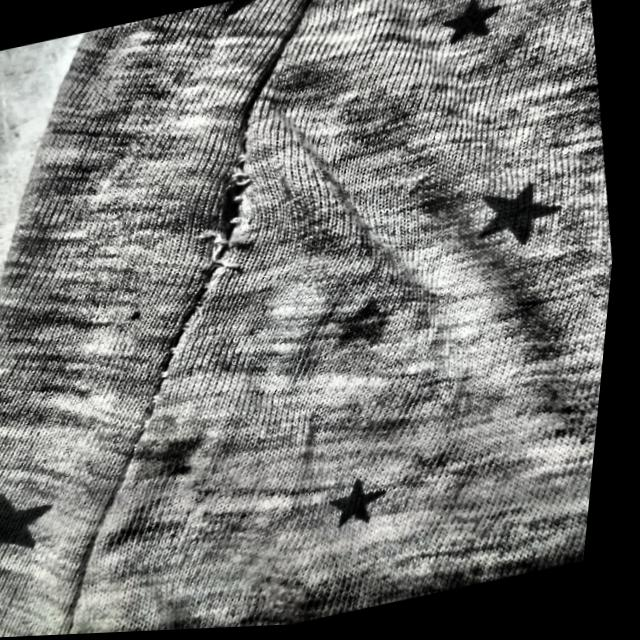Stitch: (194, 156, 282, 270)
